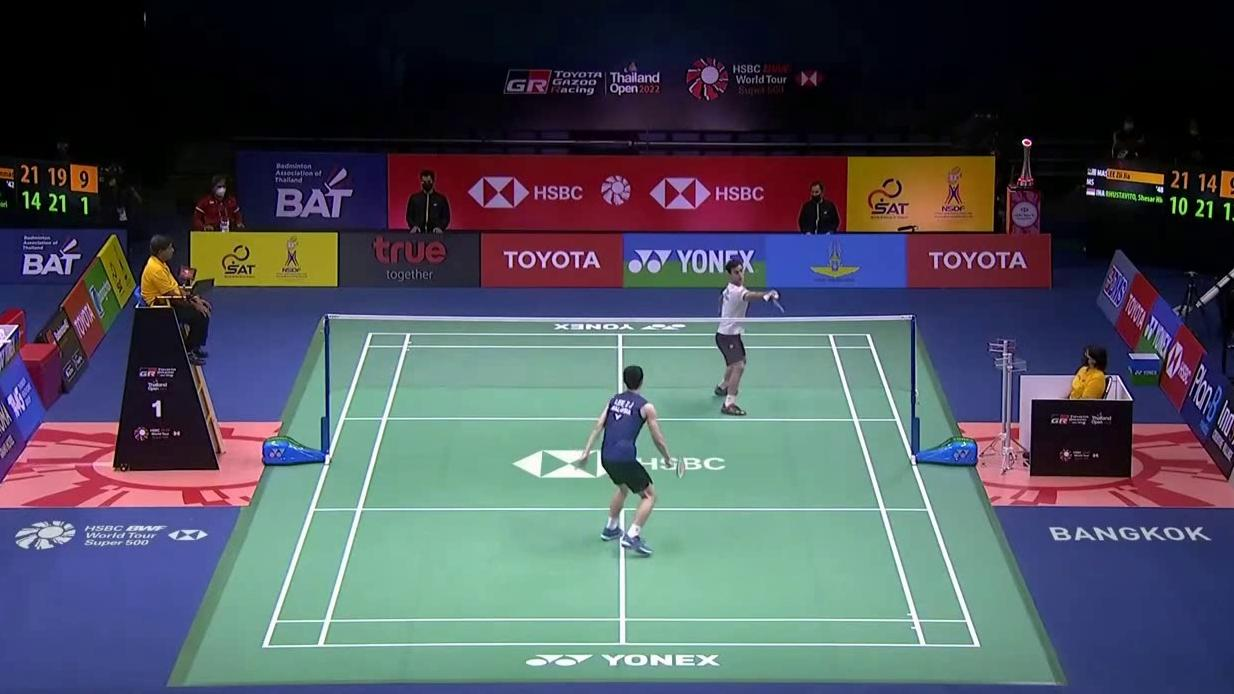racket: (665, 454, 687, 478), (772, 298, 786, 314)
shuttle: (763, 292, 772, 302)
